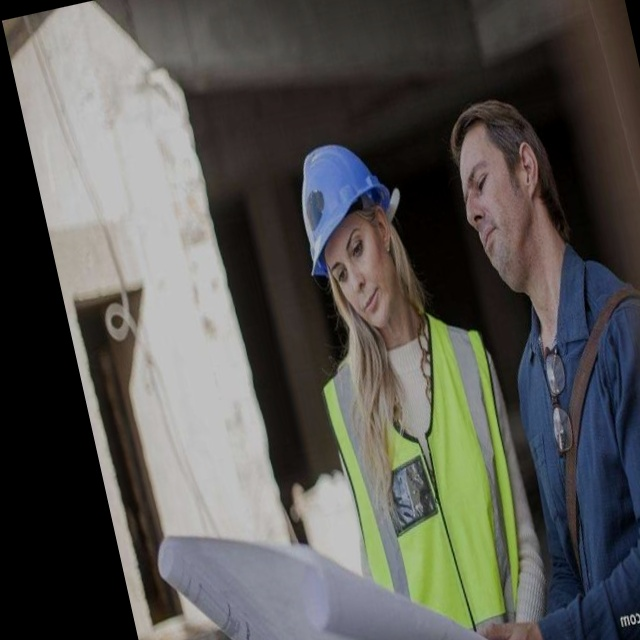Con_Casco: (289, 127, 414, 329)
Con_Chaleco: (318, 310, 549, 627)
Sin_Casco_Mascarrilla: (445, 86, 573, 289)
Sin_Chaleco: (492, 274, 640, 594)
